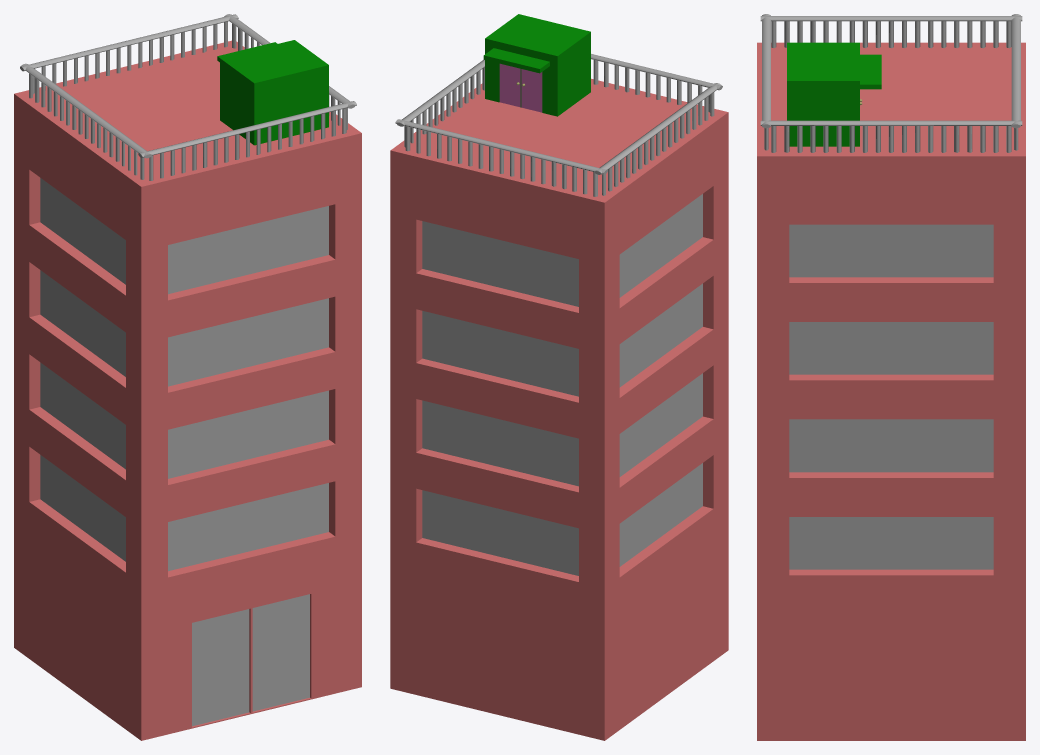
File: ビル中n.fbx
3 renders of one model, left to right at view 1: azimuth 30°, elevation 25°; view 2: azimuth 150°, elevation 25°; view 3: azimuth 270°, elevation 25°, orthographic. The views are drawn at different scales.
Parts seen in each view (by area): view 1: bill, window_1, window_3, syoumen_door, fensu, okujou; view 2: bill, window_4, window_3, fensu, okujou; view 3: bill, window_2, fensu, okujou.
Boxes of the visible parts, x1,y1,x2,y2 form: bill: (14,40,361,740); window_1: (168,206,328,571); window_3: (40,178,125,561); syoumen_door: (192,594,309,726); fensu: (20,14,356,180); okujou: (217,40,328,145); bill: (390,78,728,740); window_4: (422,221,578,575); window_3: (619,194,702,566); fensu: (395,54,722,196); okujou: (483,14,590,116); bill: (757,42,1025,740); window_2: (789,224,993,569); fensu: (760,14,1022,152); okujou: (787,42,881,146).
Size of the model in its own units: 5 by 13.35 by 5.
